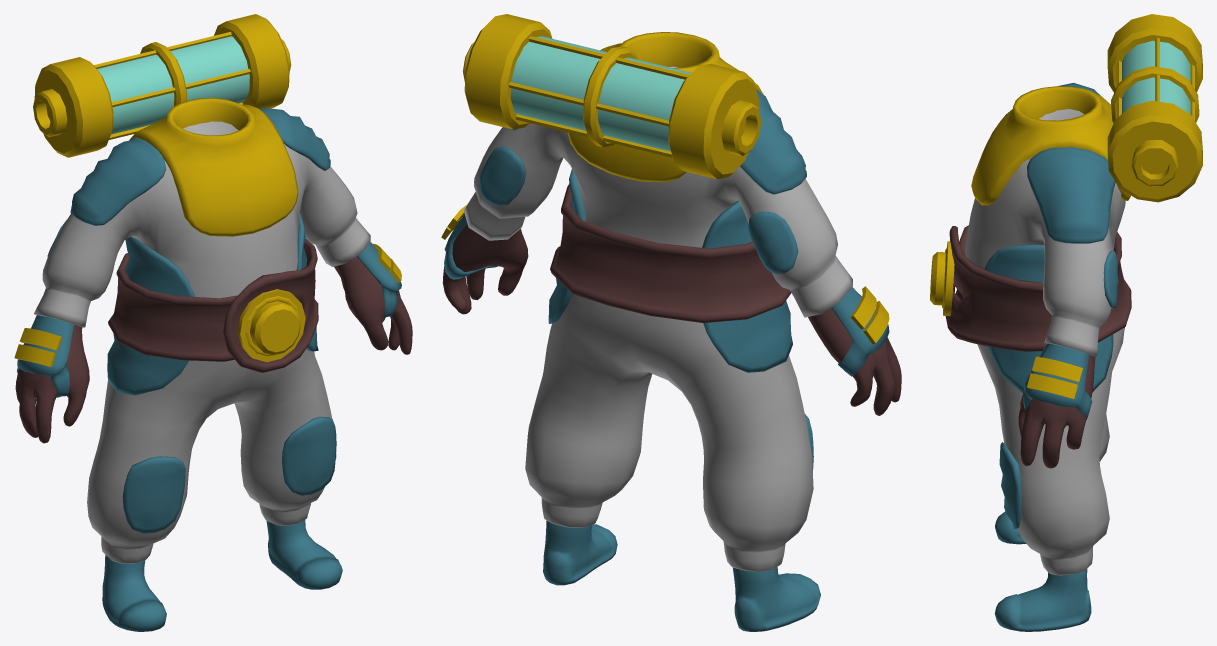
The model's file is Char_Comp8_EZ.fbx.
3 views of the same model, side by side, from view 1: azimuth 30°, elevation 25°; view 2: azimuth 150°, elevation 25°; view 3: azimuth 270°, elevation 25° (orthographic). The views are drawn at different scales.
Parts seen in each view (by area): view 1: RetopoGroup1, polySurface13, NeckBrace_Lo, polySurface25, Belt_Lo2, Char_Gloves_Lo_Glove_Lo1, polySurface24, Char_Boots_Lo_EZ_RetopoGroup1, polySurface7, pCylinder8, pCylinder4, pCube3; view 2: RetopoGroup1, polySurface25, Belt_Lo2, polySurface13, polySurface24, Char_Boots_Lo_EZ_RetopoGroup1, Char_Gloves_Lo_Glove_Lo1, NeckBrace_Lo, polySurface7, pCube3; view 3: RetopoGroup1, polySurface25, polySurface13, Belt_Lo2, NeckBrace_Lo, Char_Boots_Lo_EZ_RetopoGroup1, Char_Gloves_Lo_Glove_Lo1, polySurface24, polySurface7, pCube3, pCylinder8, pCylinder4.
Boxes of the visible parts, x1,y1,x2,y2 form: RetopoGroup1: (34, 121, 370, 563); polySurface13: (47, 107, 336, 533); NeckBrace_Lo: (129, 98, 298, 236); polySurface25: (33, 14, 291, 157); Belt_Lo2: (108, 239, 318, 372); Char_Gloves_Lo_Glove_Lo1: (15, 256, 412, 443); polySurface24: (97, 36, 249, 134); Char_Boots_Lo_EZ_RetopoGroup1: (102, 520, 342, 631); polySurface7: (17, 241, 401, 397); pCylinder8: (250, 301, 300, 355); pCylinder4: (237, 289, 305, 362); pCube3: (14, 243, 401, 367); RetopoGroup1: (463, 66, 852, 571); polySurface25: (463, 14, 761, 179); Belt_Lo2: (550, 183, 790, 322); polySurface13: (480, 89, 813, 470); polySurface24: (510, 36, 691, 151); Char_Boots_Lo_EZ_RetopoGroup1: (543, 520, 820, 631); Char_Gloves_Lo_Glove_Lo1: (442, 224, 901, 415); NeckBrace_Lo: (567, 32, 763, 182); polySurface7: (444, 214, 889, 376); pCube3: (441, 205, 889, 344); RetopoGroup1: (965, 109, 1125, 575); polySurface25: (1107, 14, 1202, 202); polySurface13: (984, 83, 1118, 529); Belt_Lo2: (945, 225, 1131, 351); NeckBrace_Lo: (971, 86, 1130, 205); Char_Boots_Lo_EZ_RetopoGroup1: (994, 511, 1091, 631); Char_Gloves_Lo_Glove_Lo1: (1018, 354, 1095, 468); polySurface24: (1122, 40, 1190, 114); polySurface7: (1023, 343, 1092, 419); pCube3: (1027, 356, 1082, 399); pCylinder8: (930, 252, 945, 305); pCylinder4: (942, 241, 954, 316).
Size of the model in its own units: 107 by 135 by 65.07.
